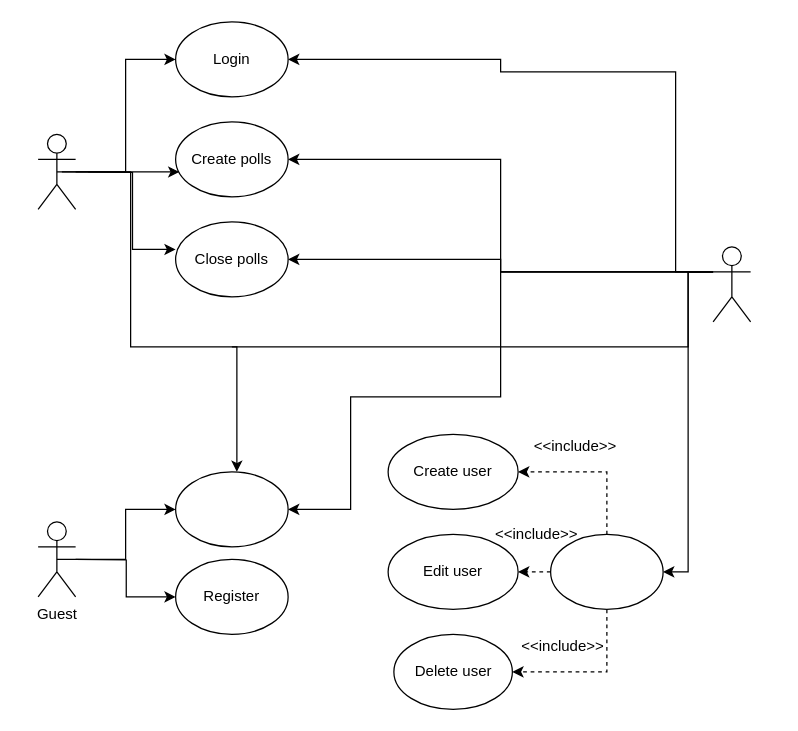
Image size: 798x731. Some labels were removed from this diagram. Each missing label, with the centre of its shape:
"Administrator" belongs at (731,284).
"Manage users" belongs at (606,571).
"User/Voter" belongs at (56,171).
"Vote polls" belongs at (231,509).
